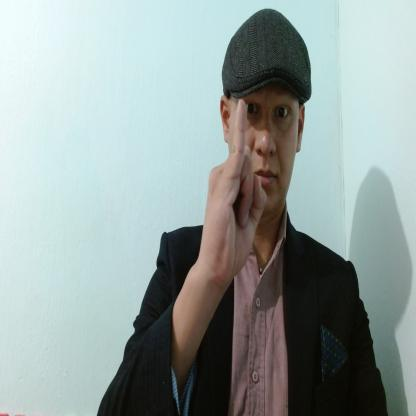I: (201, 100, 268, 291)
